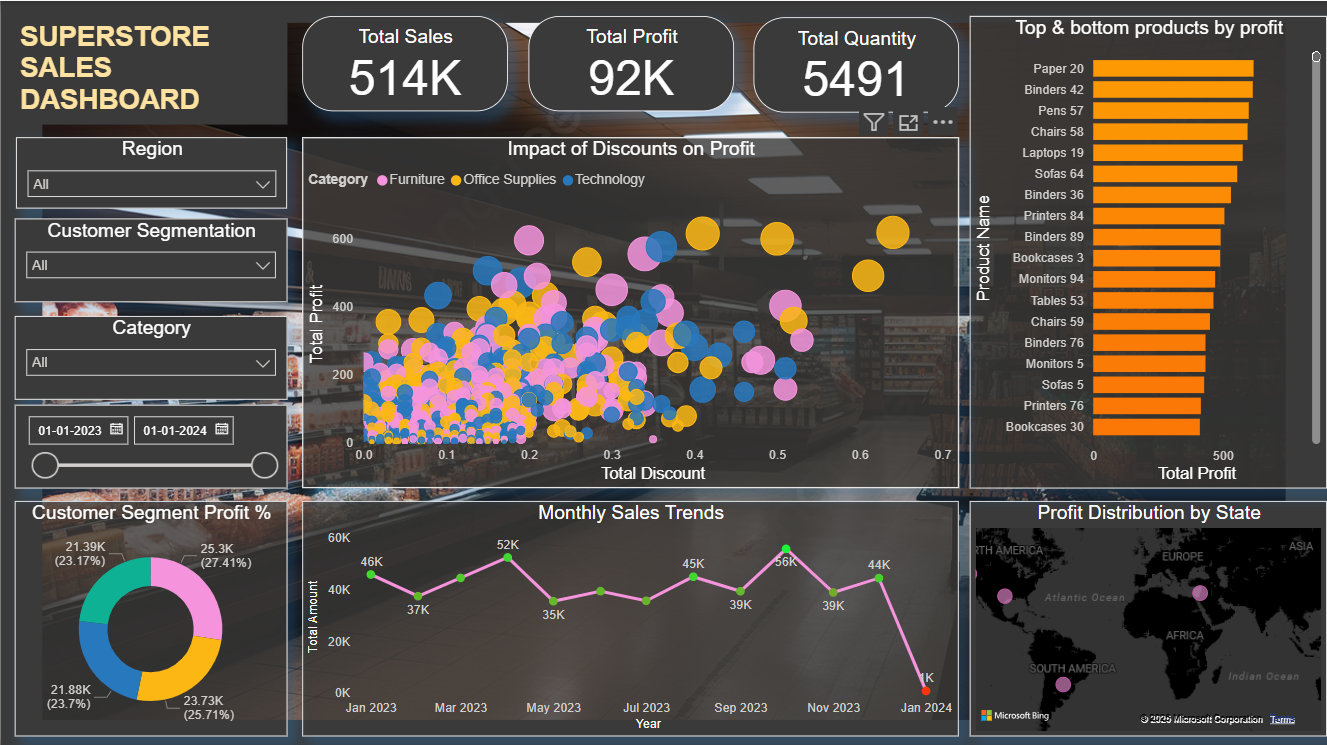

Layout of this report page (visuals, bound fields, positions):
{"tool":"powerbi","page":{"name":"Sales & Profit Dashboard","canvas":[1280,720],"ordinal":0},"visuals":[{"type":"card","title":"Total Sales","fields":{"Values":["Sum(Sheet1.Sales Amount)"]},"box":[291,14.7,198.1,91.7],"z":0},{"type":"card","title":"Total Profit","fields":{"Values":["Sum(Sheet1.Profit)"]},"box":[508.7,14.7,198.1,91.7],"z":1},{"type":"card","title":"Total Quantity","fields":{"Values":["Sum(Sheet1.Quantity)"]},"box":[726.4,15.9,198.1,91.7],"z":2},{"type":"lineChart","title":"Monthly Sales Trends","fields":{"Y":["Sum(Sheet1.Sales Amount)"],"Category":["Sheet1.Order Date.Variation.Date Hierarchy.Year","Sheet1.Order Date.Variation.Date Hierarchy.Quarter","Sheet1.Order Date.Variation.Date Hierarchy.Month","Sheet1.Order Date.Variation.Date Hierarchy.Day"]},"box":[291,483,633.4,227.4],"z":3},{"type":"map","title":"Profit Distribution by State","fields":{"Category":["Sheet1.Region"],"Size":["Sum(Sheet1.Profit)"]},"box":[935.5,483,344.8,227.4],"z":4},{"type":"clusteredBarChart","title":"Top & bottom products by profit","fields":{"Y":["Sum(Sheet1.Profit)"],"Category":["Sheet1.Product Name"]},"box":[935.5,14.7,344.8,456.1],"z":5},{"type":"scatterChart","title":"Impact of Discounts on Profit ","fields":{"X":["Sum(Sheet1.Discount)"],"Y":["Sum(Sheet1.Profit)"],"Size":["Sum(Sheet1.Sales Amount)"],"Series":["Sheet1.Category"],"Category":["Sheet1.Product Name"]},"box":[291,132.1,633.4,338.7],"z":6},{"type":"donutChart","title":"Customer Segment Profit %","fields":{"Category":["Sheet1.Customer Segment"],"Y":["Sum(Sheet1.Profit)"]},"box":[13.5,483,262.9,227.4],"z":7},{"type":"slicer","title":"Region","fields":{"Values":["Sheet1.Region"]},"box":[14.7,132.1,261.7,68.5],"z":9},{"type":"slicer","title":"Customer Segmentation","fields":{"Values":["Sheet1.Customer Segment"]},"box":[13.5,210.3,262.9,80.7],"z":10},{"type":"slicer","title":"Category","fields":{"Values":["Sheet1.Category"]},"box":[13.5,304.5,262.9,80.7],"z":11},{"type":"slicer","fields":{"Values":["Sheet1.Order Date"]},"box":[13.5,390.1,262.9,80.7],"z":12},{"type":"textbox","box":[13.3,14.5,263,105],"z":13}]}

Visuals, with their boxes in screenshot pixels (x1, y1, x2, y2), scaled from the page's 1280x720 canvas onto the 1327x745 screenshot:
"Total Sales" card: detection(302, 15, 507, 110)
"Total Profit" card: detection(527, 15, 733, 110)
"Total Quantity" card: detection(753, 16, 958, 111)
"Monthly Sales Trends" lineChart: detection(302, 500, 958, 735)
"Profit Distribution by State" map: detection(970, 500, 1326, 735)
"Top & bottom products by profit" clusteredBarChart: detection(970, 15, 1326, 487)
"Impact of Discounts on Profit " scatterChart: detection(302, 137, 958, 487)
"Customer Segment Profit %" donutChart: detection(14, 500, 287, 735)
"Region" slicer: detection(15, 137, 287, 208)
"Customer Segmentation" slicer: detection(14, 218, 287, 301)
"Category" slicer: detection(14, 315, 287, 399)
slicer - Sheet1.Order Date: detection(14, 404, 287, 487)
textbox: detection(14, 15, 286, 124)
